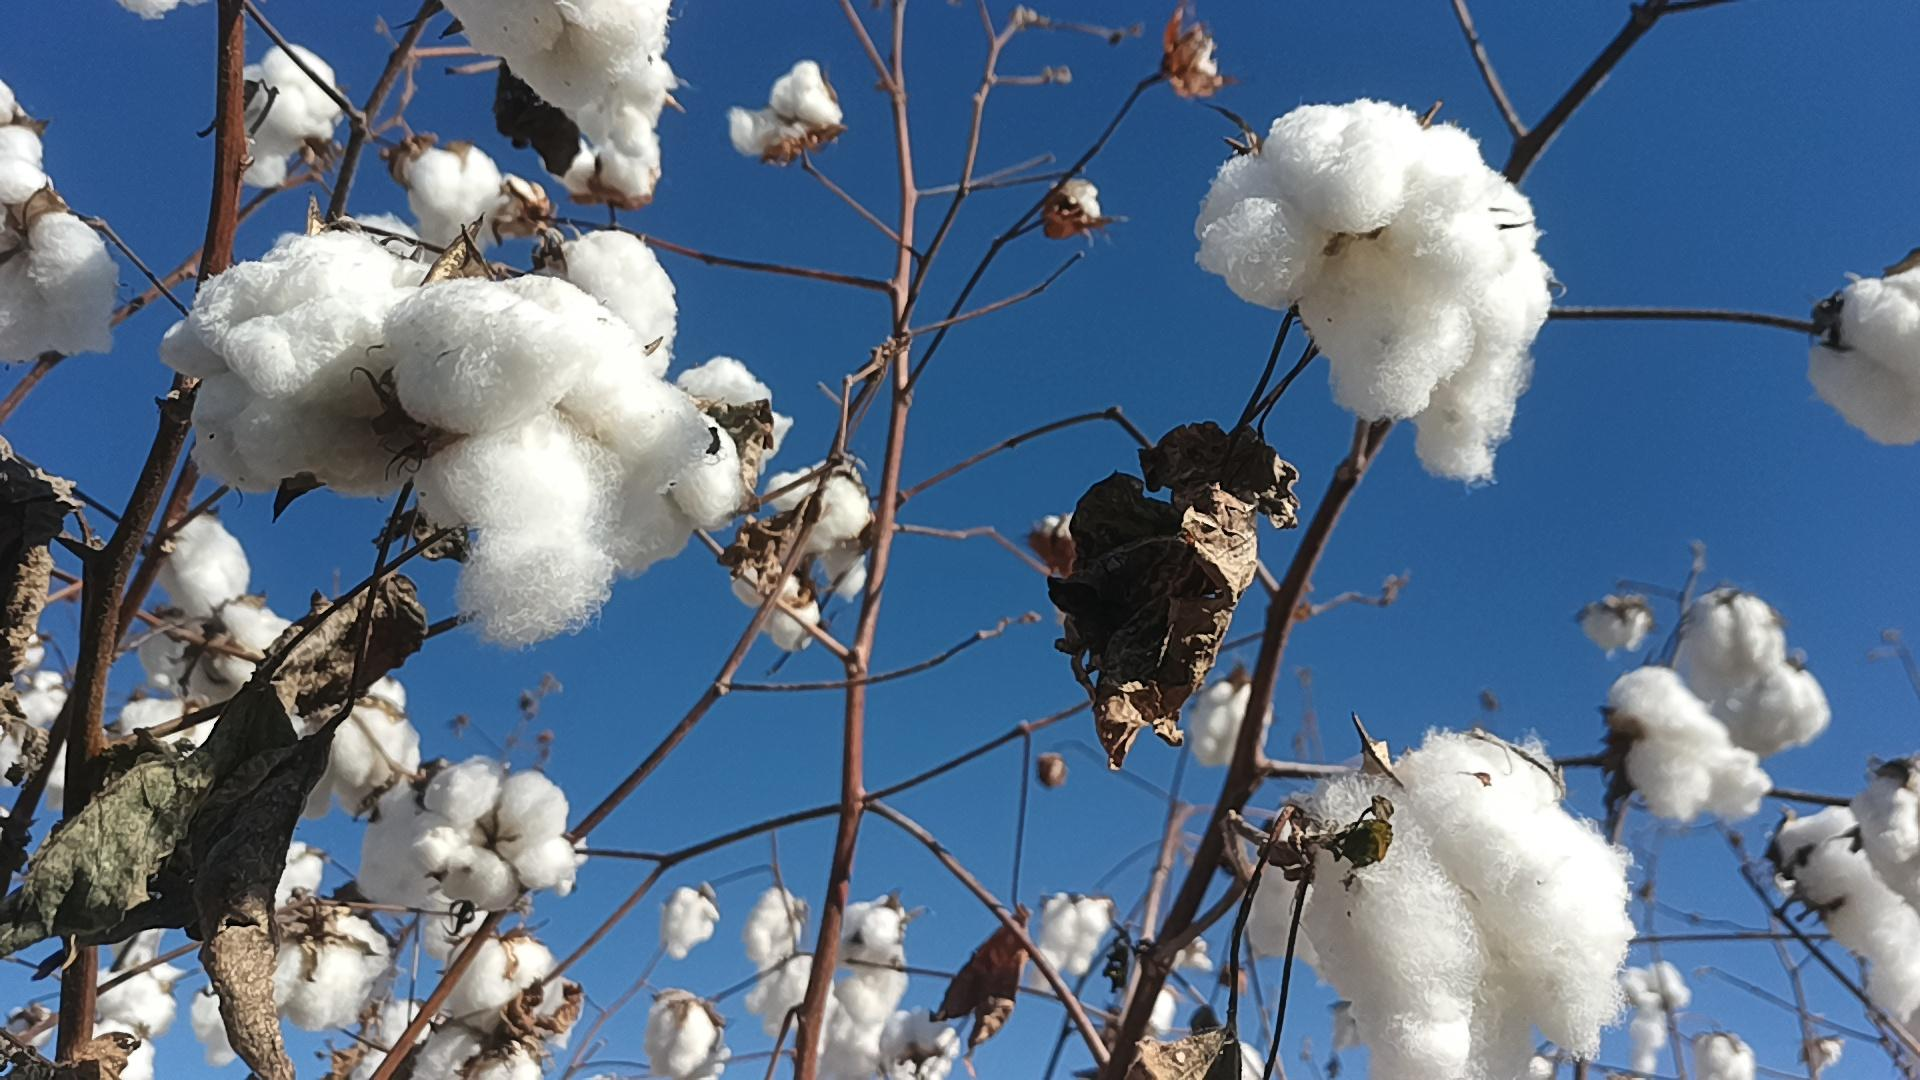cotton_ready: (295, 277, 708, 647), (1193, 103, 1553, 485), (1313, 728, 1638, 1080), (158, 233, 430, 496), (608, 356, 800, 571), (0, 128, 120, 365), (406, 758, 578, 913), (1614, 667, 1775, 825), (444, 0, 670, 111), (1808, 262, 1920, 451), (538, 229, 678, 373), (306, 676, 422, 815), (357, 771, 458, 916), (273, 911, 394, 1030), (179, 600, 298, 715), (243, 44, 338, 186), (766, 479, 878, 596), (1676, 591, 1782, 715), (1250, 816, 1336, 957), (1705, 667, 1830, 756), (542, 107, 663, 198), (1800, 837, 1900, 947), (448, 932, 558, 1033), (724, 63, 845, 153), (407, 145, 506, 251), (156, 510, 248, 617), (1861, 758, 1920, 913), (1861, 895, 1920, 1026), (1771, 806, 1858, 891), (411, 1026, 541, 1080), (138, 611, 202, 703), (731, 558, 799, 613), (0, 82, 38, 164), (762, 595, 820, 647)
